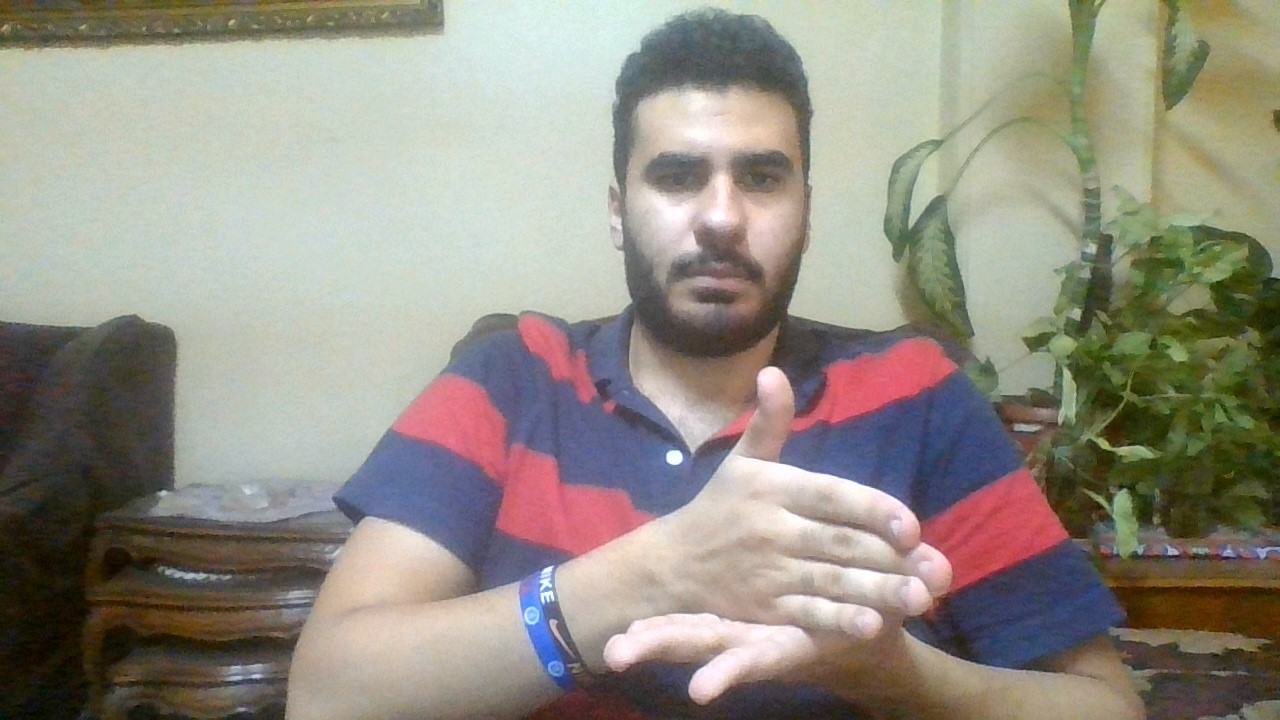stop: (622, 368, 953, 690)
